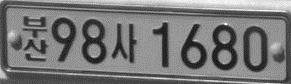0: (241, 24, 269, 73)
1: (150, 21, 176, 68)
6: (179, 22, 207, 70)
8: (210, 23, 238, 70), (80, 17, 107, 64)
9: (50, 16, 77, 62)
부산_V: (21, 14, 48, 62)
사: (110, 21, 136, 64)
